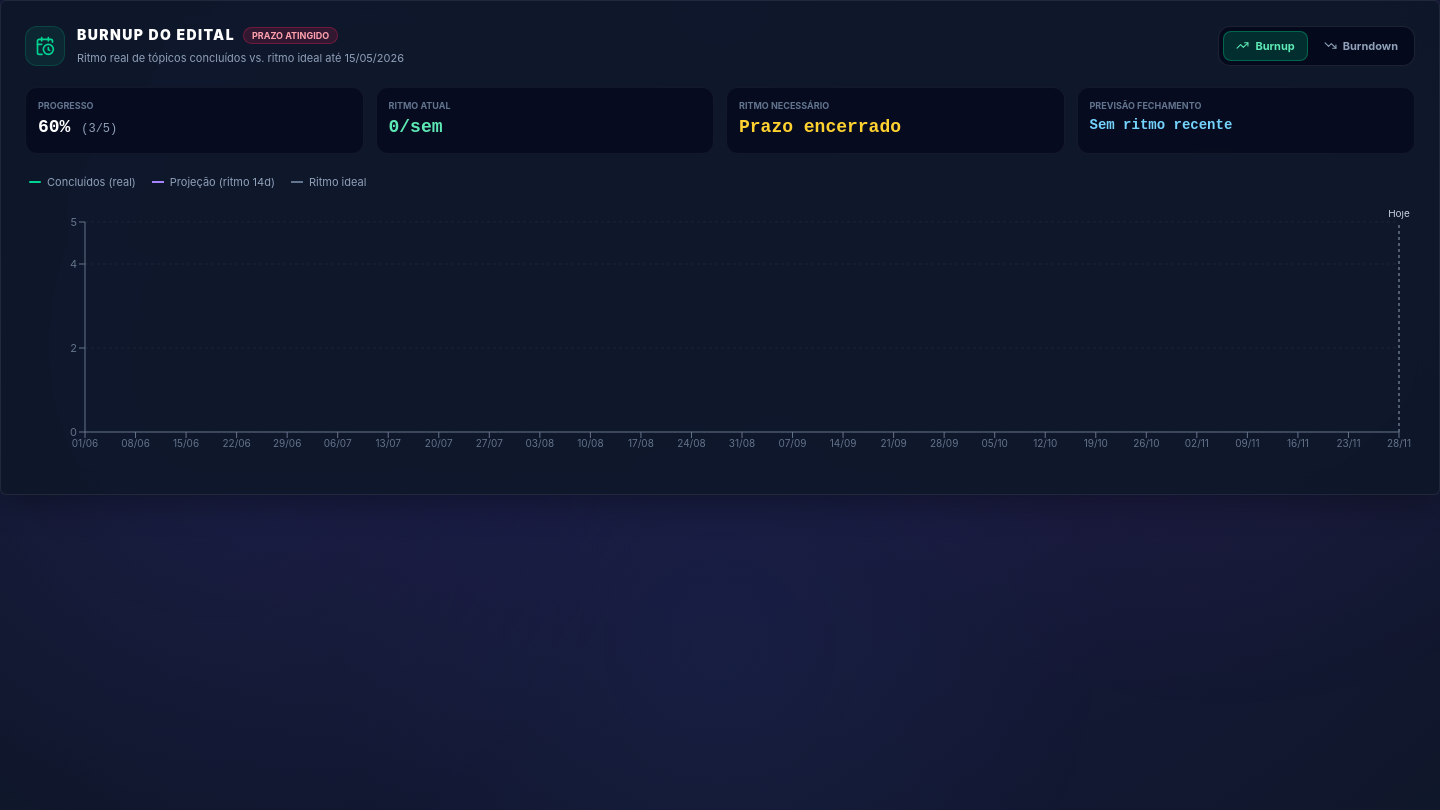
Advanced Charts Suite (#2, #4, #6, #8, #11, #12, #15, #16) › #4 SyllabusBurndownChart computes burnup/burndown pace and toggles views
The image size is (1440, 810).
Click the button "Burndown" at (1361, 46), box [1312,32,1410,60]
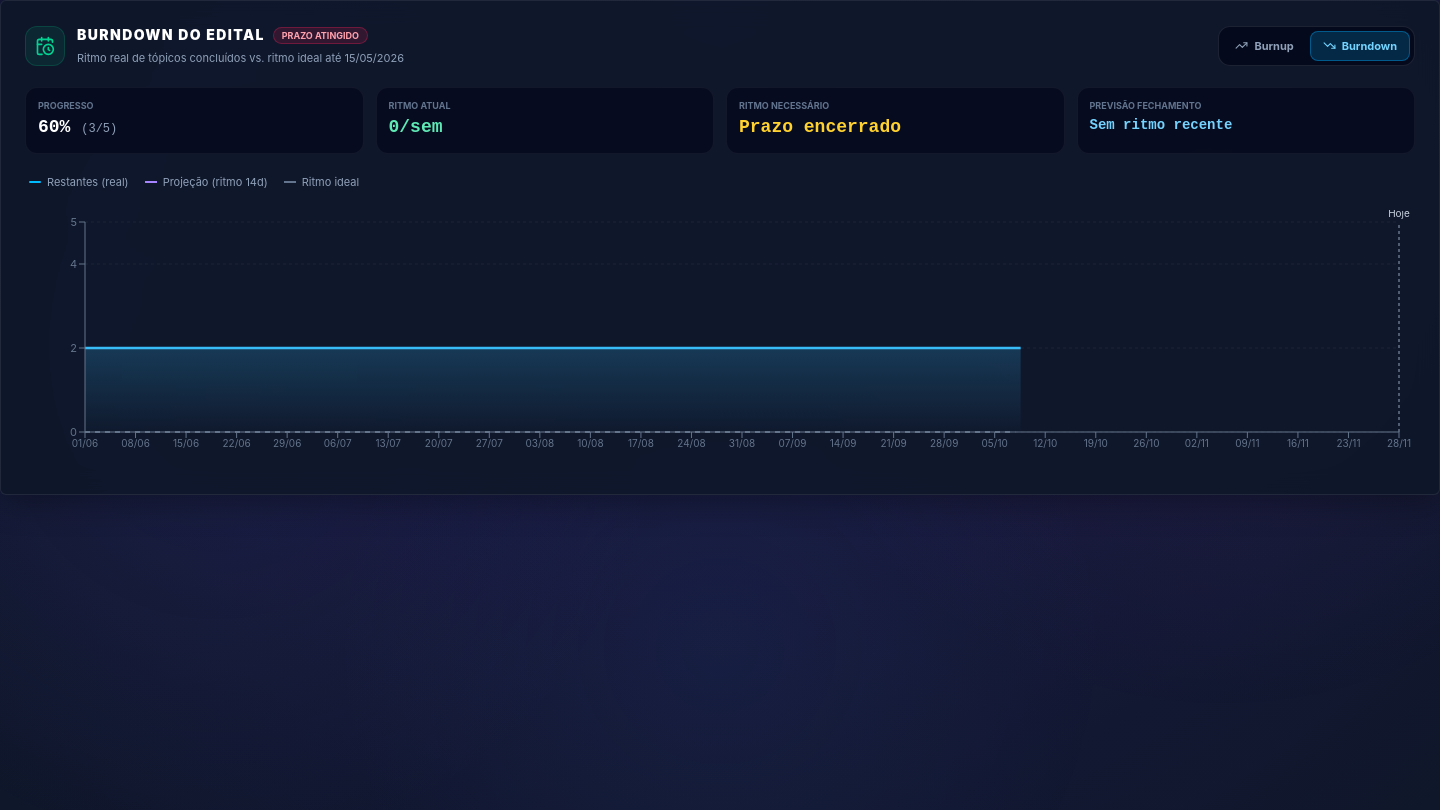
Check: the text "Burndown do Edital" is shown, box [77,25,265,46]
